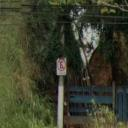NoEstacionar: (56, 57, 67, 77)
